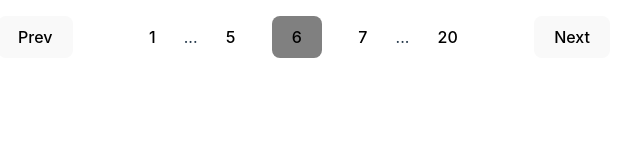
Test case: Pagination › When clicking on the last page button › should button be disabled
The width and height of the screenshot is (630, 160).
Click the button "20": (448, 37) top-left (417, 16), bottom-right (478, 58)
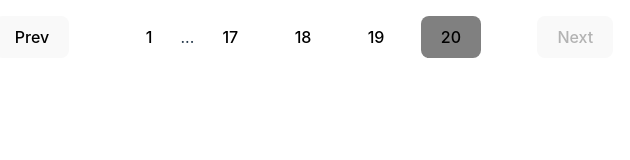
expect the button with test id "next-page-button" is disabled: met, box top-left (537, 16), bottom-right (613, 58)
